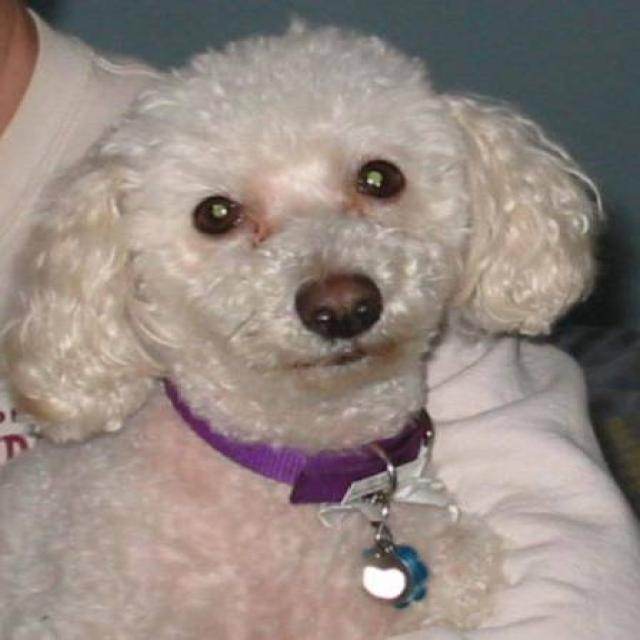Dog: (14, 18, 600, 444)
